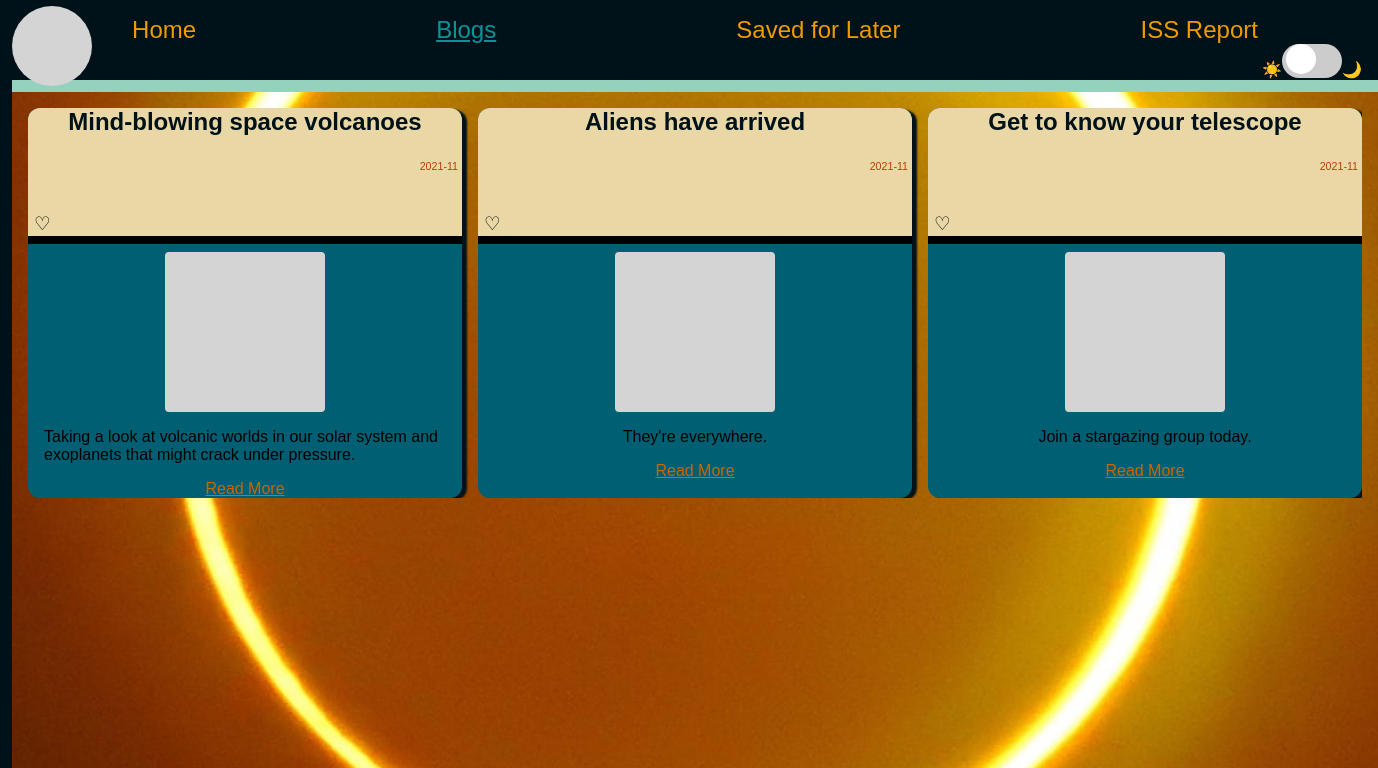
Test: Blogs view › Should allow user to favorite a blog by clicking the heart icon
Click the button with id "636" at (40, 224), box x1=28 y1=212 x2=52 y2=236
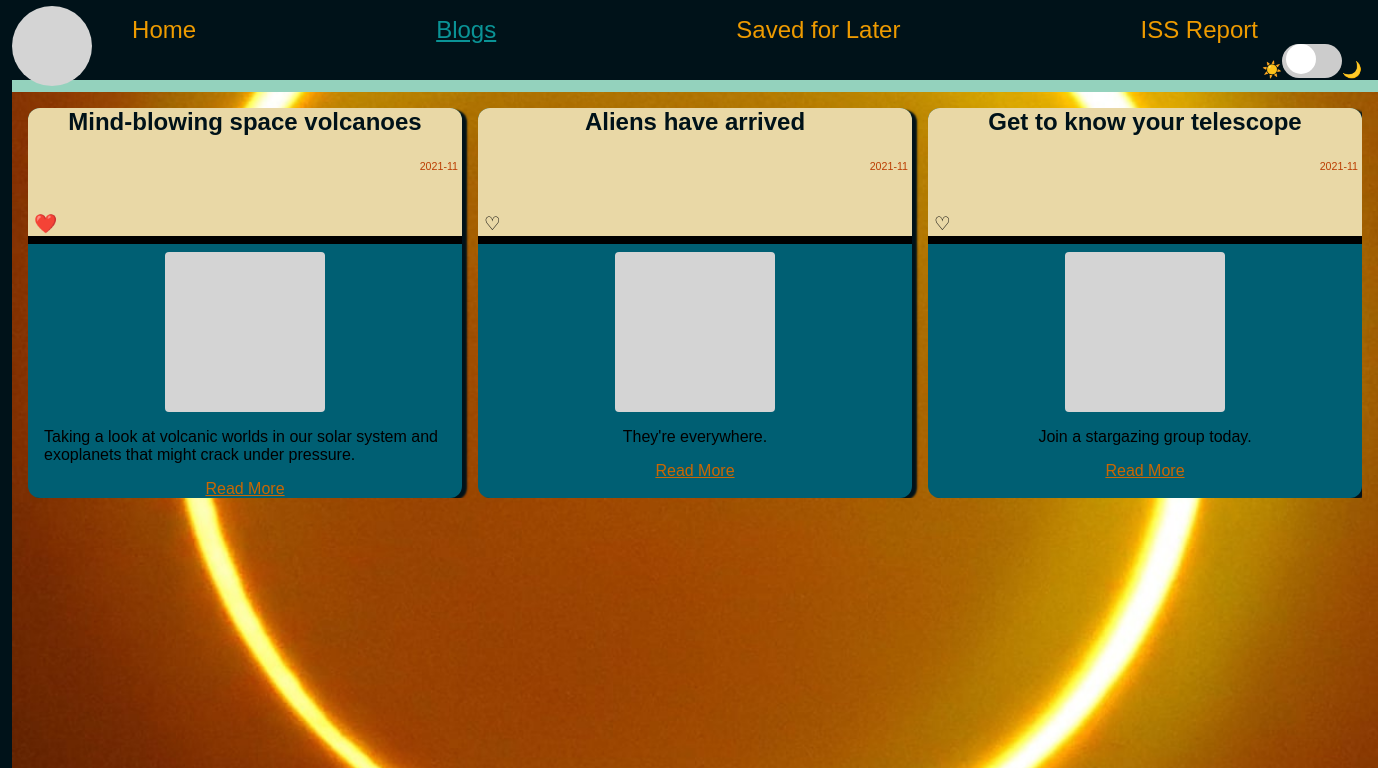
Click the link "Saved for Later" at (818, 30), box x1=736 y1=16 x2=900 y2=44
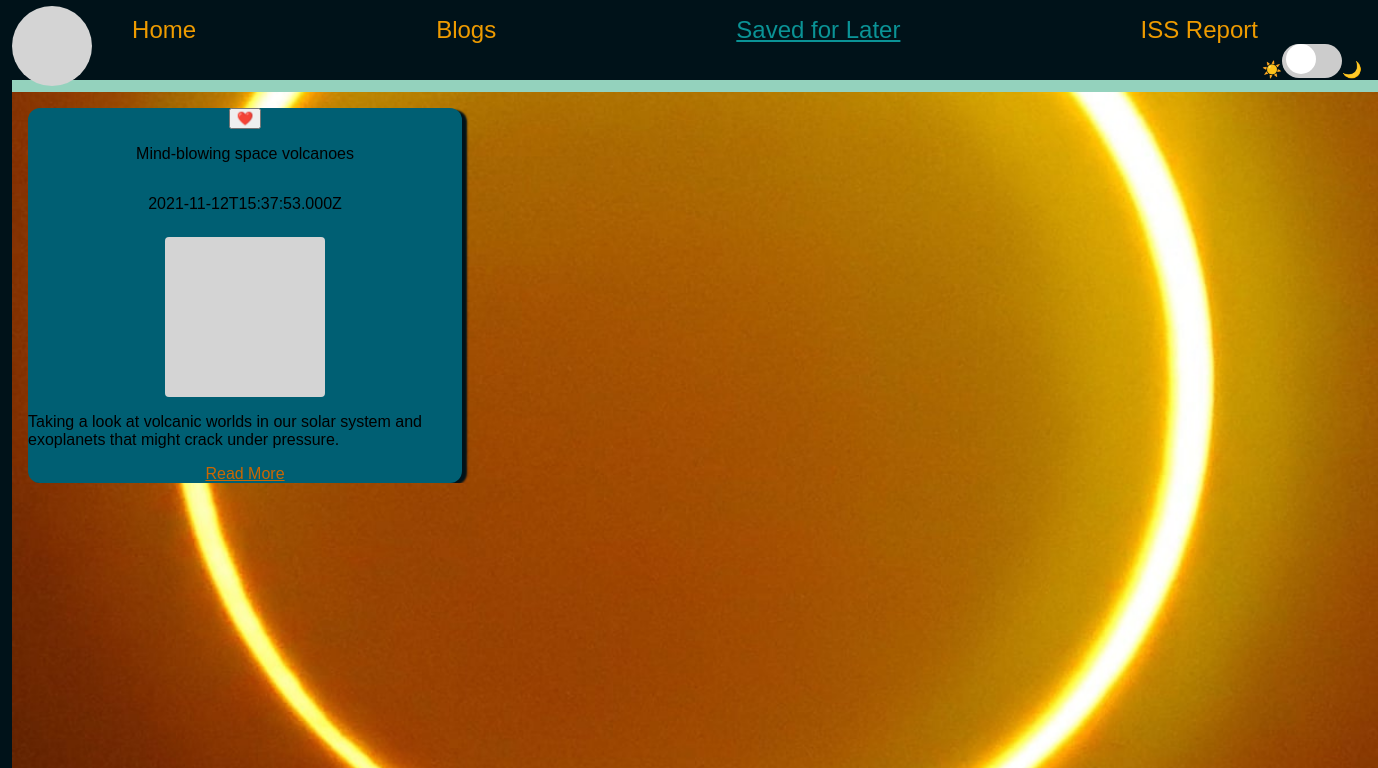
Check: the element with class "blog-card" is shown, box x1=28 y1=108 x2=462 y2=483
